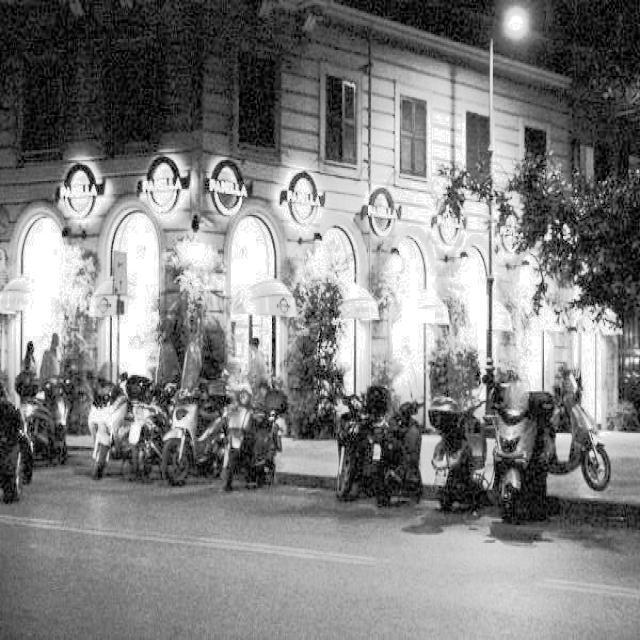Motorcycle: (495, 357, 621, 507), (331, 378, 433, 517), (422, 355, 510, 513), (227, 386, 313, 522), (169, 359, 241, 499), (126, 364, 182, 511), (92, 357, 136, 511), (43, 368, 87, 482), (0, 405, 35, 535)
Person: (237, 323, 287, 399), (16, 323, 50, 421), (41, 314, 65, 395)
